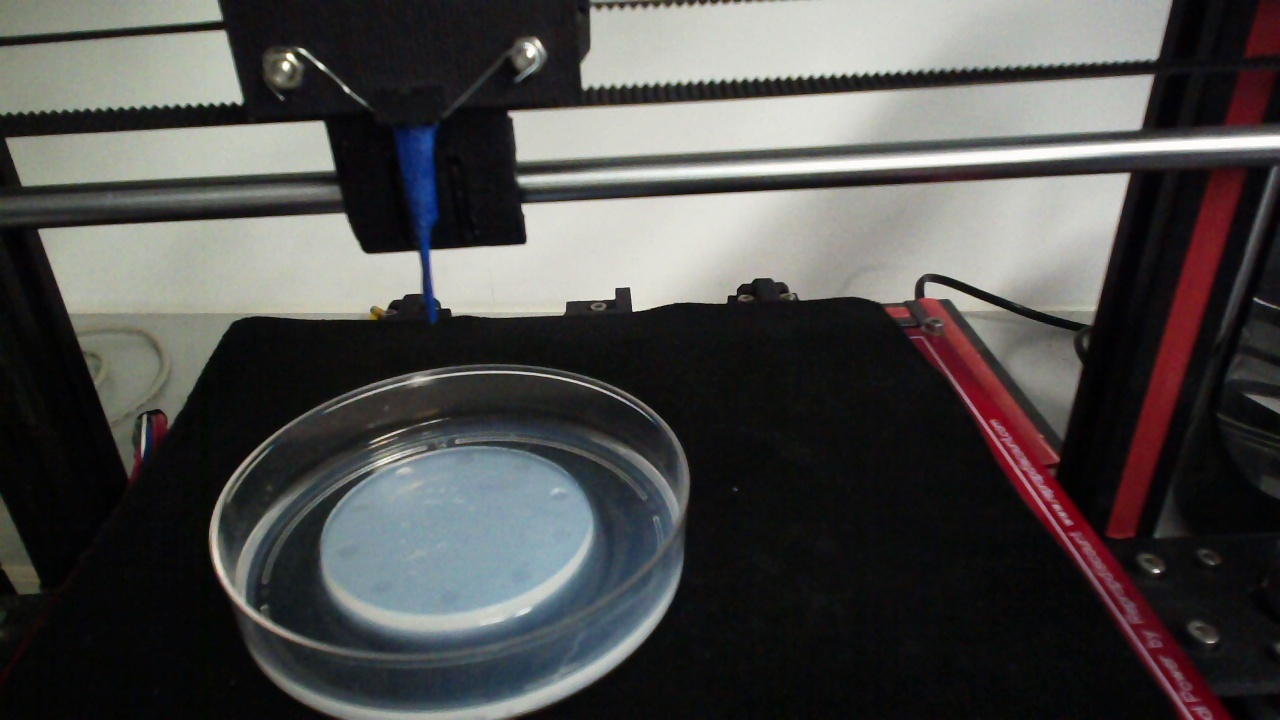groove: (336, 540, 359, 562), (508, 567, 532, 586), (549, 526, 573, 545), (437, 589, 461, 607), (546, 485, 570, 502), (394, 465, 413, 483), (453, 451, 475, 466), (369, 578, 389, 594), (512, 458, 533, 473), (346, 501, 367, 514)
needle: (394, 128, 436, 323)
